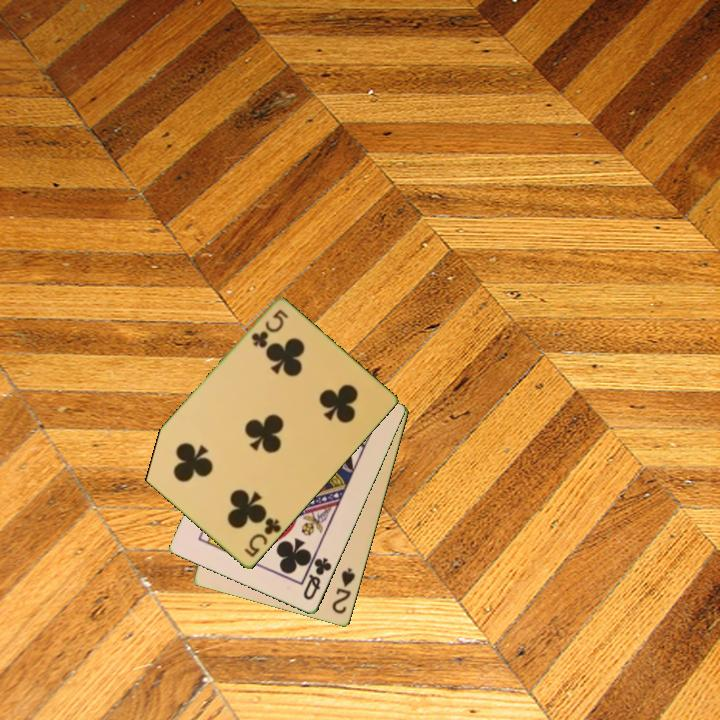2s: (328, 565, 358, 617)
5c: (240, 514, 284, 561), (248, 306, 292, 351)
Qc: (300, 554, 335, 603)
